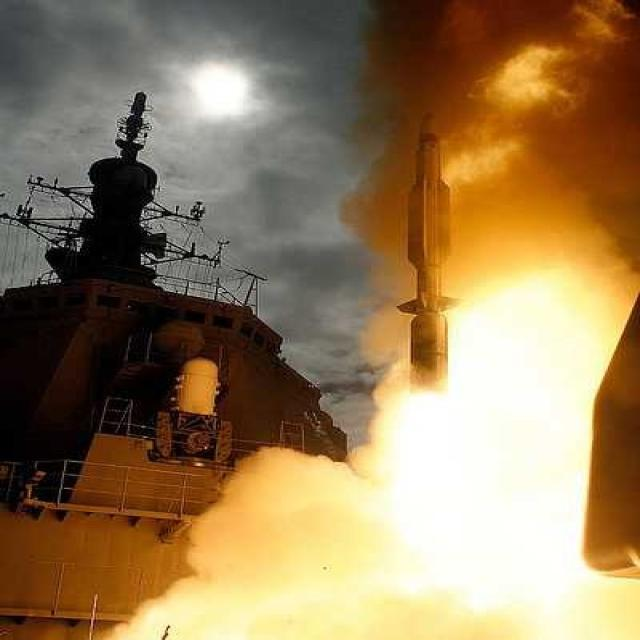missile: (394, 118, 456, 390)
